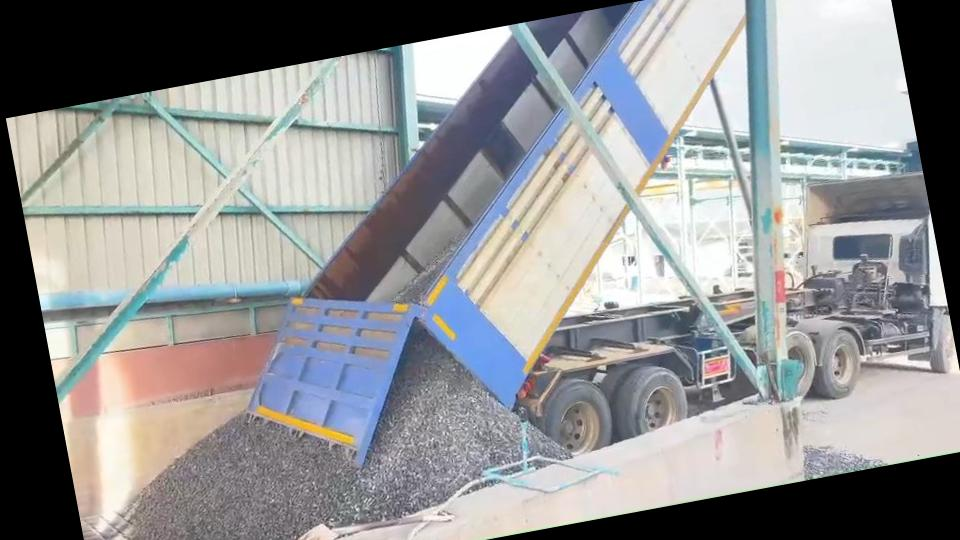gravel: (126, 327, 520, 540), (393, 234, 463, 302), (803, 446, 884, 479), (529, 428, 567, 458)
